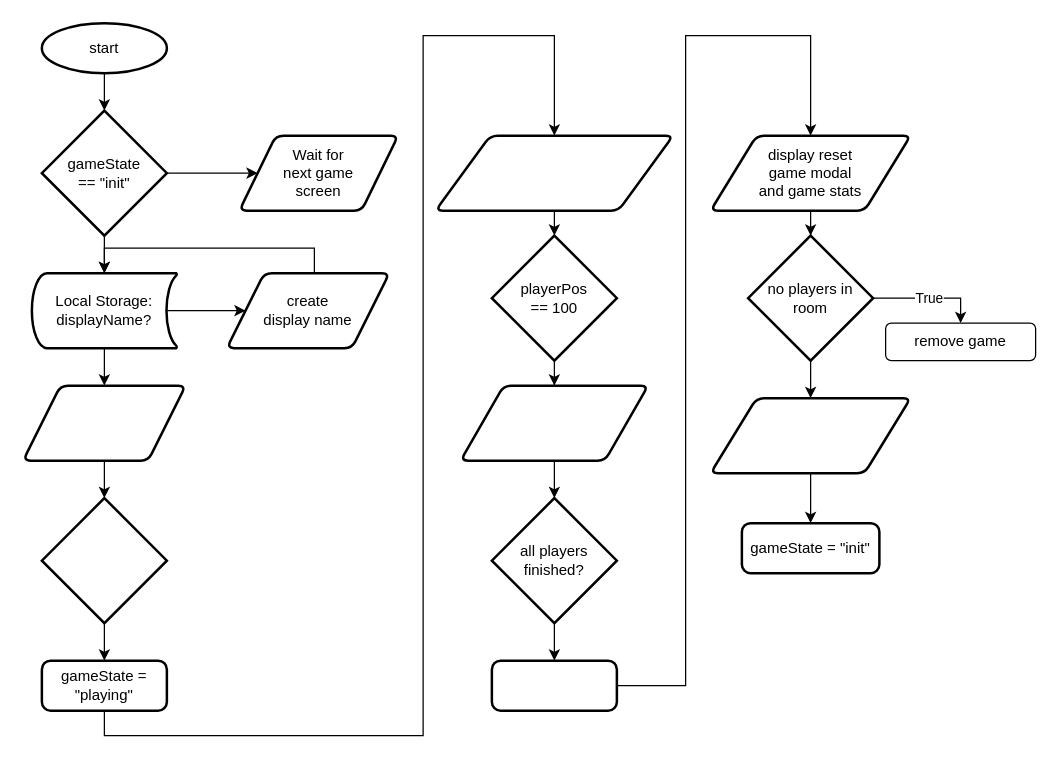
The diagram is 1058 pixels wide and 768 high, and some of its shapes have lost their labels. The centre of each missing label's shape, as x and y in pixels:
all players ready?: (104,560)
gameState = "finished": (554,685)
playerFinish(): (554,422)
playerPosUpdate(pos): (554,172)
playerReady(): (103,422)
resetGame(): (810,435)
